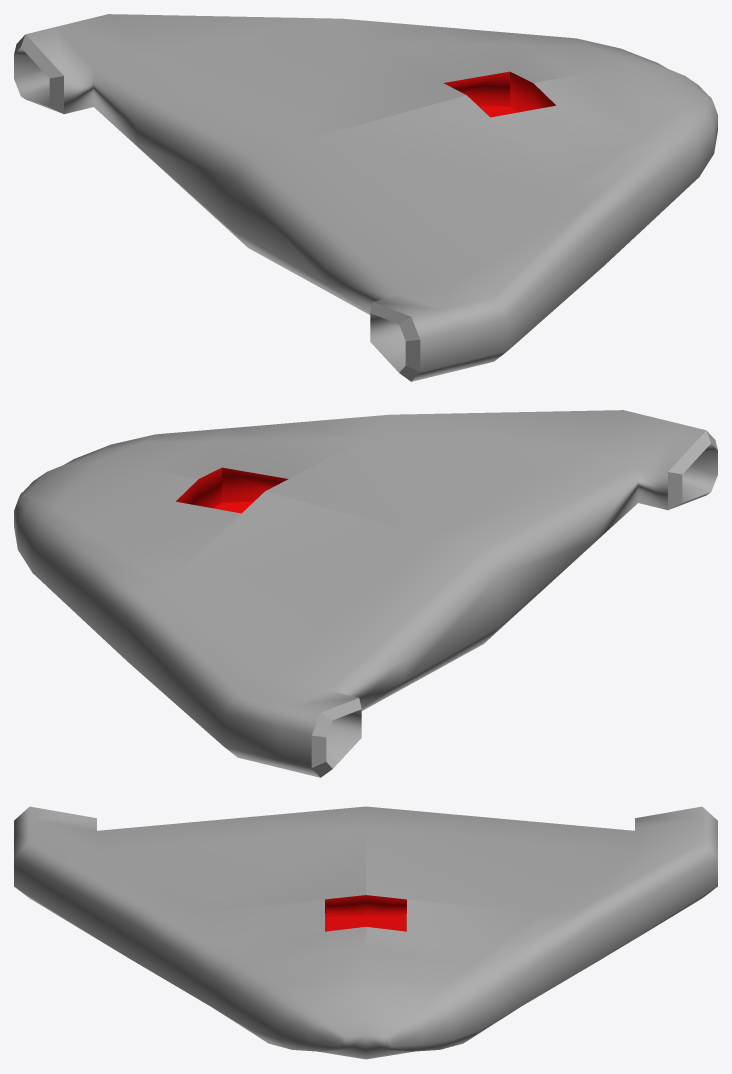
File: BigDrone_Body.fbx
3 renders of one model, top to bottom at view 1: azimuth 30°, elevation 25°; view 2: azimuth 150°, elevation 25°; view 3: azimuth 270°, elevation 25°, orthographic. The views are drawn at different scales.
Visible parts, largest first — view 1: polySurface69; view 2: polySurface69; view 3: polySurface69.
Part boxes in pixels (x1,y1,x2,y2): polySurface69: (14, 14, 717, 381); polySurface69: (14, 410, 717, 777); polySurface69: (14, 806, 717, 1059).
Bounding box in the file's own units: 1000 × 203 × 1430.
